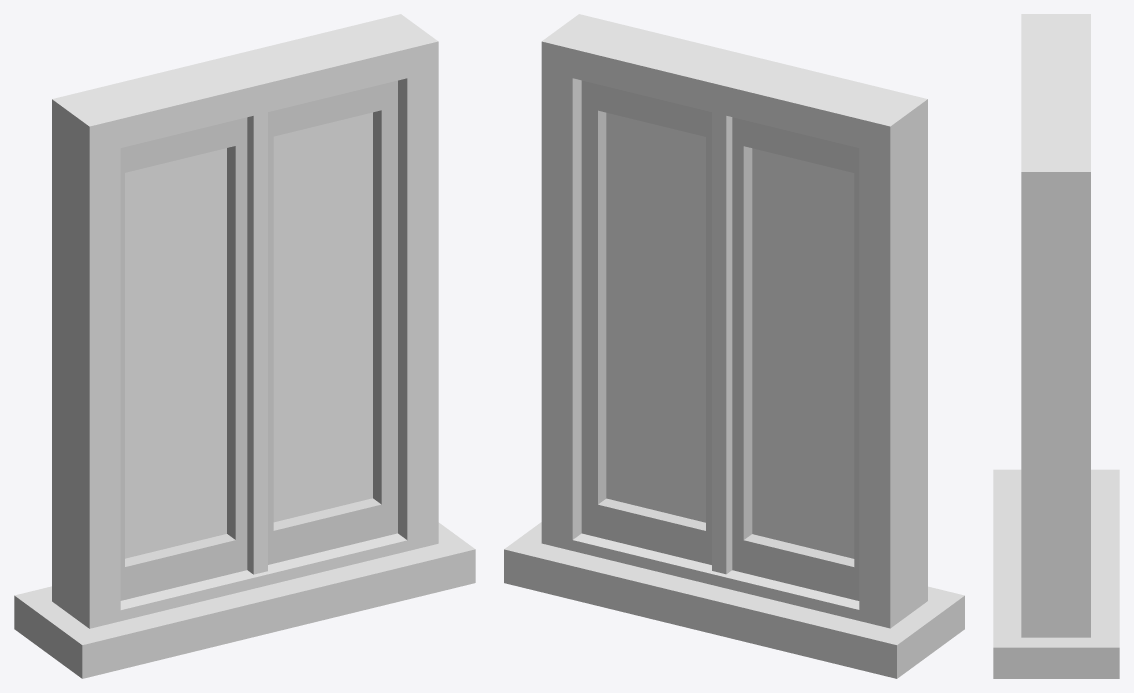
Rendered from window_011.fbx.
3 renders of one model, left to right at view 1: azimuth 30°, elevation 25°; view 2: azimuth 150°, elevation 25°; view 3: azimuth 270°, elevation 25°, orthographic. The views are drawn at different scales.
Visible parts, largest first — view 1: window_011; view 2: window_011; view 3: window_011.
Boxes of the visible parts, left/top/right/bottom form: window_011: left=14, top=14, right=475, bottom=678; window_011: left=504, top=14, right=964, bottom=678; window_011: left=993, top=14, right=1119, bottom=678.
Size of the model in its own units: 143 by 42.75 by 186.
